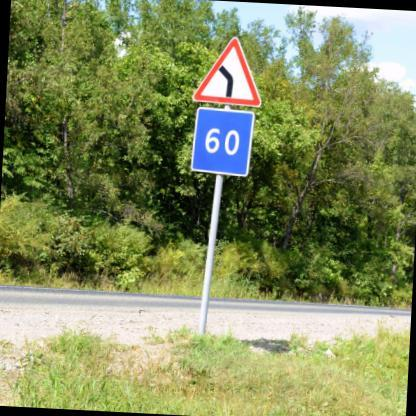road_sign: (191, 107, 257, 180), (193, 37, 260, 105)
